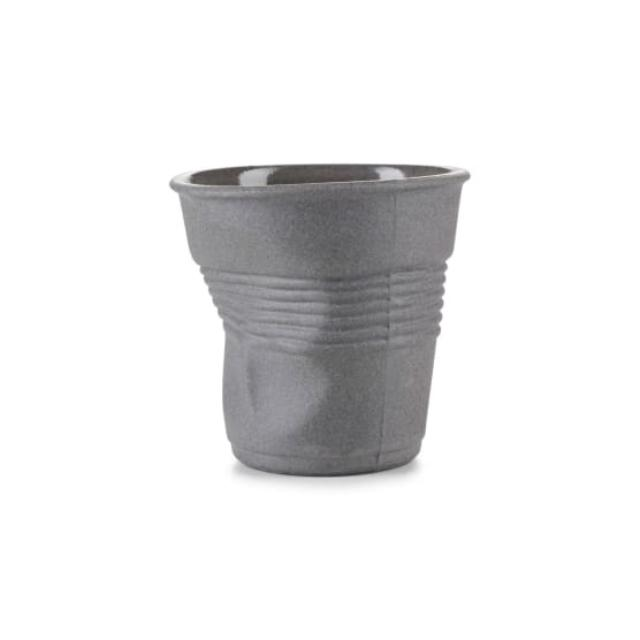trash: (168, 159, 472, 477)
